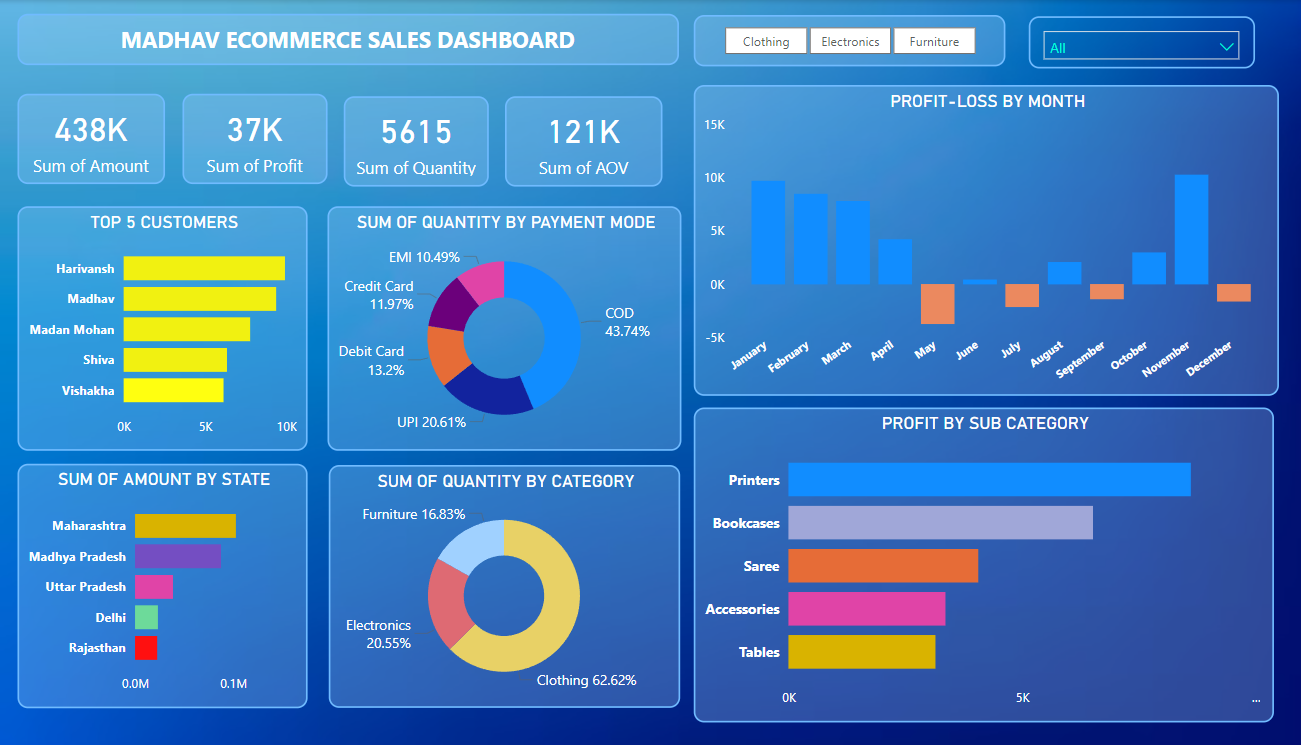

What the dashboard file says about the page in this screenshot:
{"tool":"powerbi","page":{"name":"Page 1","canvas":[1280,720],"ordinal":0},"visuals":[{"type":"columnChart","title":"PROFIT-LOSS BY MONTH","fields":{"Y":["Details.Profit"],"Category":["Orders.Order Date.Variation.Date Hierarchy.Month"]},"box":[669.6,82.3,564.6,300.2],"z":0},{"type":"textbox","box":[16.9,13.3,638.2,49.5],"z":1000},{"type":"barChart","title":"PROFIT BY SUB CATEGORY","fields":{"Category":["Details.Sub-Category"],"Y":["Details.Profit"]},"box":[669.1,392.8,559.8,304],"z":2000},{"type":"donutChart","title":"SUM OF QUANTITY BY CATEGORY","fields":{"Category":["Details.Category"],"Y":["Details.Quantity"]},"box":[317.3,448.8,339,234],"z":3000},{"type":"donutChart","title":"SUM OF QUANTITY BY PAYMENT MODE","fields":{"Category":["Details.PaymentMode"],"Y":["Details.Quantity"]},"box":[315.6,199,341.7,236],"z":4000},{"type":"card","fields":{"Values":["Details.Amount"]},"box":[16.9,90.5,142.4,86.9],"z":5000},{"type":"card","fields":{"Values":["Details.Profit"]},"box":[176.1,90.5,139.9,86.9],"z":5001},{"type":"card","fields":{"Values":["Details.Quantity"]},"box":[331.8,92.9,139.9,86.9],"z":5002},{"type":"card","fields":{"Values":["Details.AOV"]},"box":[487.4,92.9,152,86.9],"z":5003},{"type":"barChart","title":"SUM OF AMOUNT BY STATE","fields":{"Category":["Orders.State"],"Y":["Details.Amount"]},"box":[16.5,447.3,279.9,236],"z":5004},{"type":"barChart","title":"TOP 5 CUSTOMERS","fields":{"Category":["Orders.CustomerName"],"Y":["Details.Amount"]},"box":[16.5,199,279.9,236],"z":5005},{"type":"slicer","fields":{"Values":["Details.Category"]},"box":[669.6,14.5,300.4,49.5],"z":5006},{"type":"slicer","fields":{"Values":["Orders.State"]},"box":[993.5,15.1,218.2,50.8],"z":5007}]}

Visuals, with their boxes in screenshot pixels (x1, y1, x2, y2), scaled from the page's 1280x720 canvas onto the 1301x745 screenshot:
"PROFIT-LOSS BY MONTH" columnChart: rect(681, 85, 1254, 396)
textbox: rect(17, 14, 666, 65)
"PROFIT BY SUB CATEGORY" barChart: rect(680, 406, 1249, 721)
"SUM OF QUANTITY BY CATEGORY" donutChart: rect(323, 464, 667, 707)
"SUM OF QUANTITY BY PAYMENT MODE" donutChart: rect(321, 206, 668, 450)
card - Details.Amount: rect(17, 94, 162, 184)
card - Details.Profit: rect(179, 94, 321, 184)
card - Details.Quantity: rect(337, 96, 479, 186)
card - Details.AOV: rect(495, 96, 650, 186)
"SUM OF AMOUNT BY STATE" barChart: rect(17, 463, 301, 707)
"TOP 5 CUSTOMERS" barChart: rect(17, 206, 301, 450)
slicer - Details.Category: rect(681, 15, 986, 66)
slicer - Orders.State: rect(1010, 16, 1232, 68)
